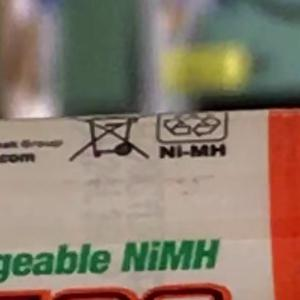NIMH: (112, 230, 229, 282)
